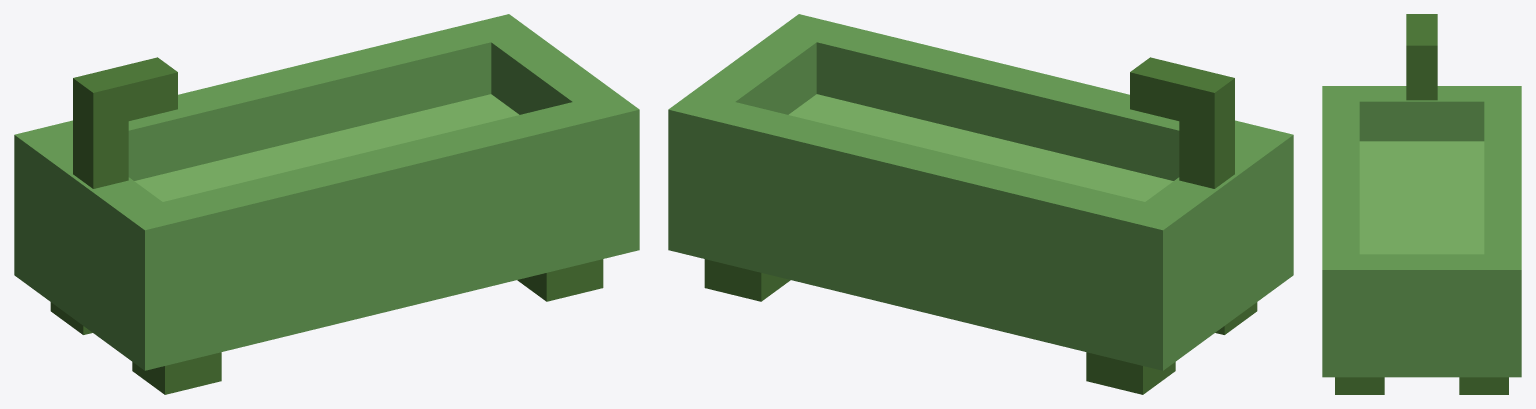
The model's file is bathtub.glb.
3 renders of one model, left to right at view 1: azimuth 30°, elevation 25°; view 2: azimuth 150°, elevation 25°; view 3: azimuth 270°, elevation 25°, orthographic. The views are drawn at different scales.
Parts seen in each view (by area): view 1: bathtub; view 2: bathtub; view 3: bathtub.
Boxes of the visible parts, bbox=[...] form: bathtub: bbox=[14, 14, 639, 394]; bathtub: bbox=[668, 14, 1293, 394]; bathtub: bbox=[1322, 14, 1521, 394].
Bounding box in the file's own units: 140 × 74 × 64.
